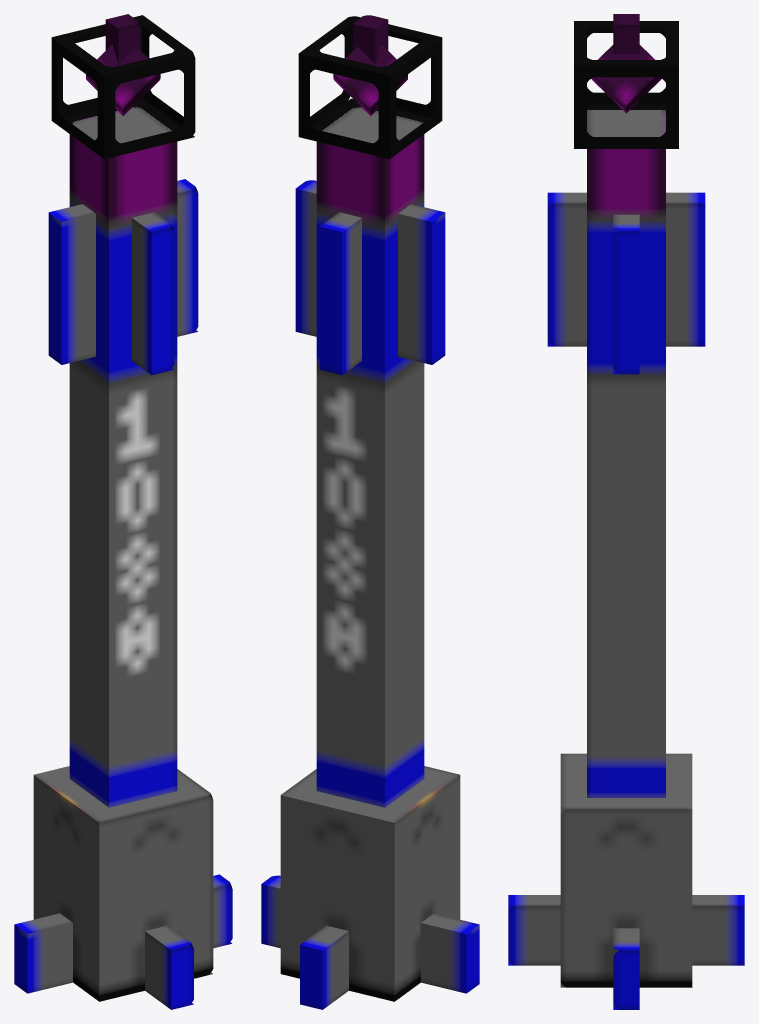
The model's file is missile_antigravitational.obj.
3 views of the same model, side by side, from view 1: azimuth 30°, elevation 25°; view 2: azimuth 150°, elevation 25°; view 3: azimuth 270°, elevation 25° (orthographic).
Parts seen in each view (by area): view 1: Shape1, Shape6, Shape4, Shape7, Shape5, Shape3, Shape2, Shape8, Shape9; view 2: Shape1, Shape6, Shape4, Shape7, Shape5, Shape3, Shape2, Shape8, Shape9; view 3: Shape1, Shape6, Shape5, Shape2, Shape7, Shape4, Shape3, Shape8, Shape9.
Boxes of the visible parts, x1,y1,x2,y2 form: Shape1: (69, 106, 177, 807); Shape6: (33, 766, 213, 1001); Shape4: (48, 179, 198, 364); Shape7: (51, 15, 195, 159); Shape5: (132, 212, 174, 375); Shape3: (14, 874, 232, 993); Shape2: (145, 925, 193, 1009); Shape8: (86, 45, 160, 115); Shape9: (105, 14, 141, 63); Shape1: (316, 107, 424, 807); Shape6: (280, 766, 460, 1001); Shape4: (295, 180, 445, 364); Shape7: (298, 16, 442, 159); Shape5: (319, 212, 361, 375); Shape3: (261, 875, 479, 993); Shape2: (300, 925, 348, 1009); Shape8: (333, 45, 407, 115); Shape9: (352, 15, 388, 63); Shape1: (587, 110, 665, 797); Shape6: (560, 753, 692, 987); Shape5: (547, 192, 705, 346); Shape2: (508, 895, 744, 965); Shape7: (574, 21, 678, 148); Shape4: (613, 214, 639, 374); Shape3: (613, 928, 639, 1009); Shape8: (591, 45, 661, 113); Shape9: (613, 14, 639, 53).
Bounding box in the file's own units: 1.12 × 4.94 × 1.12.
